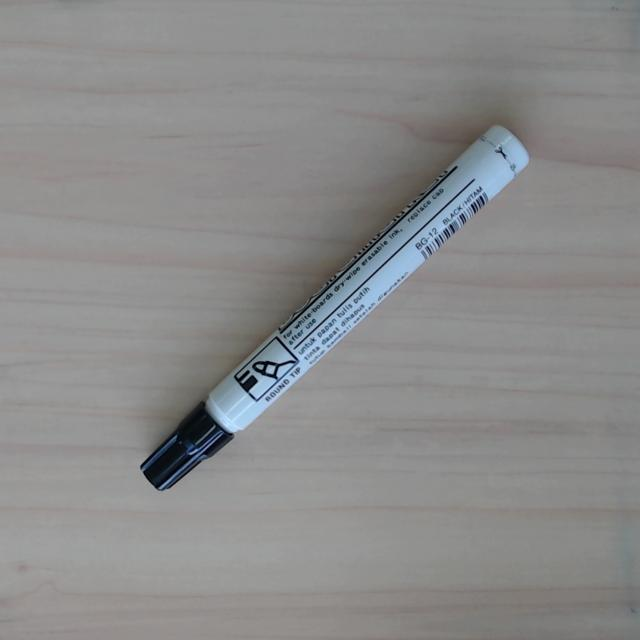Marker-Pen: (131, 119, 535, 501)
